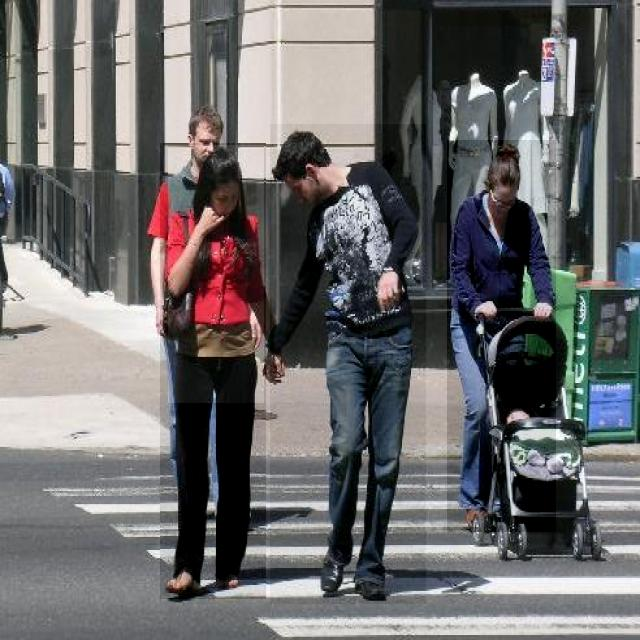with scooter: (270, 124, 426, 604), (160, 143, 266, 600), (447, 140, 556, 532), (168, 145, 264, 403)
